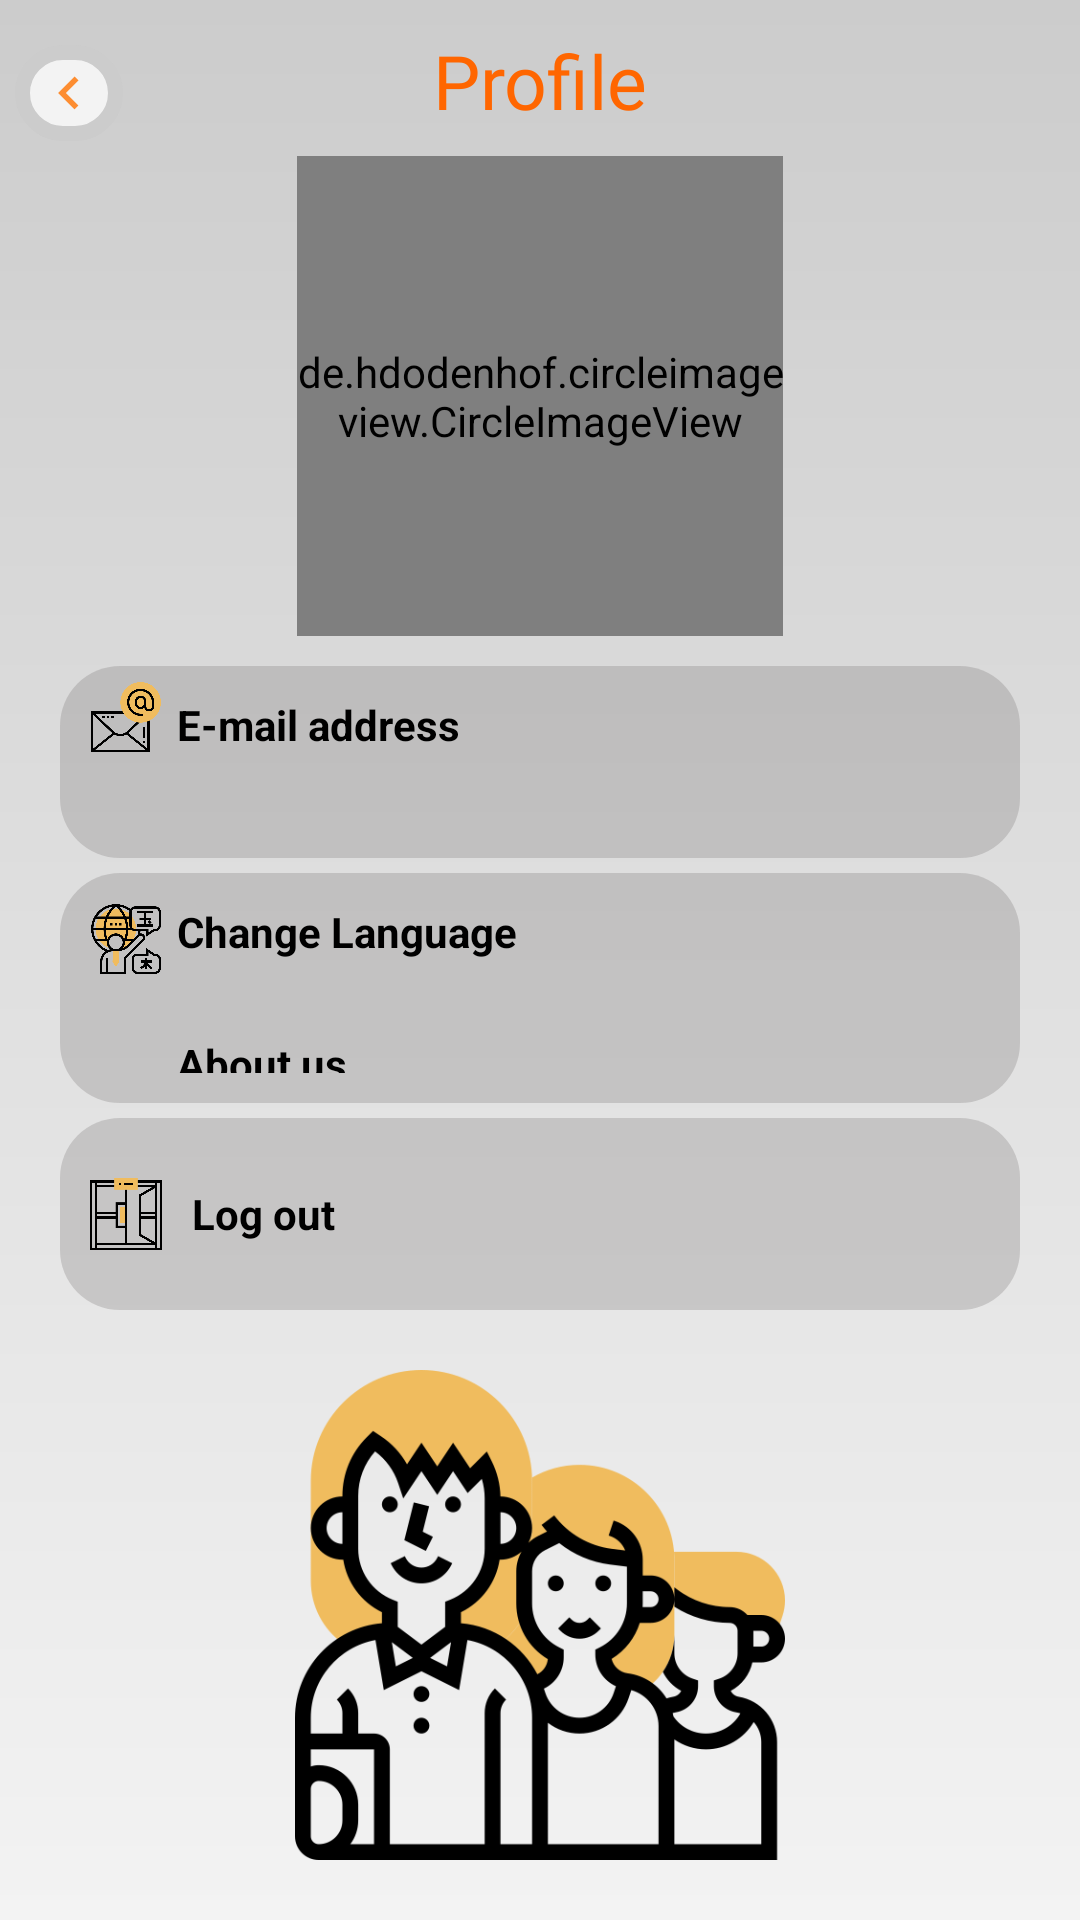

Icon bounding boxes for this 1080w x 1920h phone screenshot, format [x1=x1, y1=y1, x2=x2, y2=y2]:
exit: [x1=90, y1=1178, x2=162, y2=1250]
left: [x1=30, y1=60, x2=108, y2=126]
